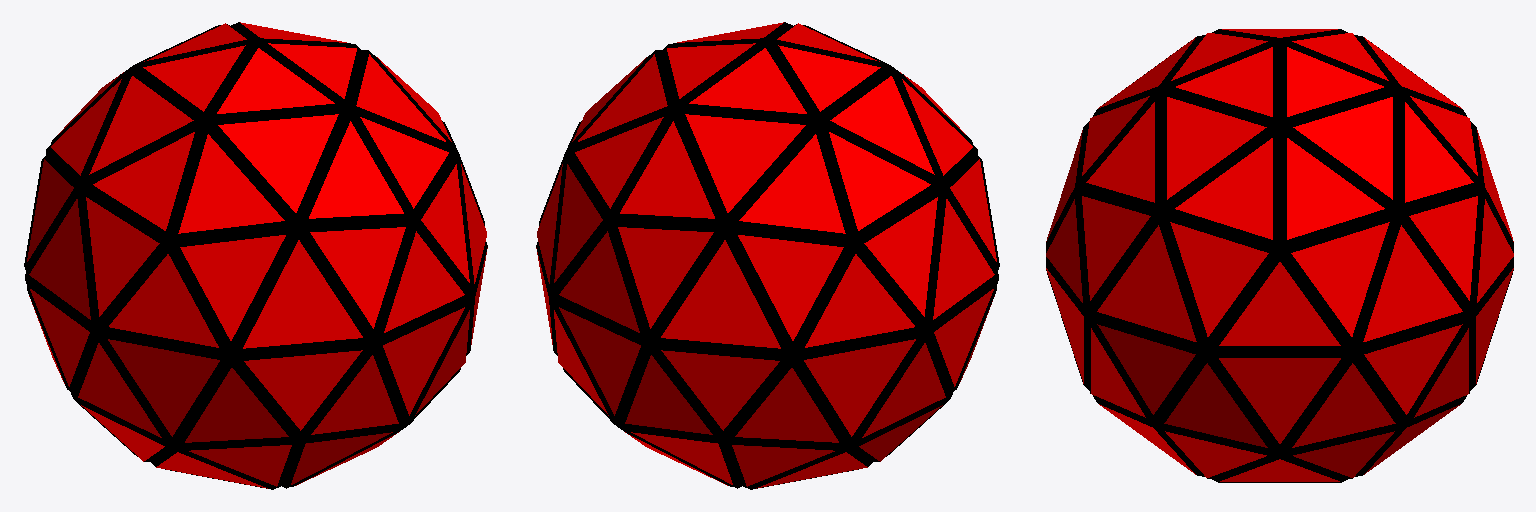
Rendered from RedBiz.obj.
3 renders of one model, left to right at view 1: azimuth 30°, elevation 25°; view 2: azimuth 150°, elevation 25°; view 3: azimuth 270°, elevation 25°, orthographic.
Visible parts, largest first — view 1: Red; view 2: Red; view 3: Red.
Boxes of the visible parts, <box> form: Red: <box>24,22,487,489</box>; Red: <box>536,22,999,489</box>; Red: <box>1046,29,1513,482</box>.
Size of the model in its own units: 1.95 by 2.02 by 2.01.